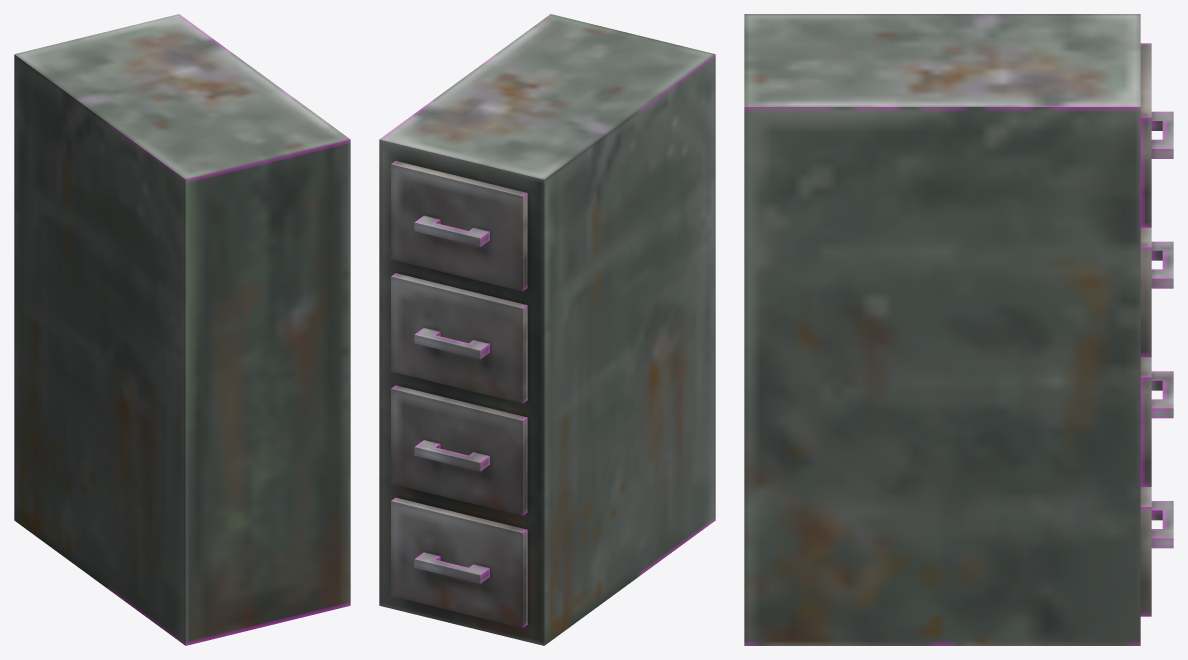
Rendered from filecabinet.001.fbx.
3 views of the same model, side by side, from view 1: azimuth 30°, elevation 25°; view 2: azimuth 150°, elevation 25°; view 3: azimuth 270°, elevation 25° (orthographic). The views are drawn at different scales.
Parts seen in each view (by area): view 1: filecabinet.001; view 2: filecabinet.001; view 3: filecabinet.001.
Part boxes in pixels (<box>): filecabinet.001: <box>14,14,350,645</box>; filecabinet.001: <box>379,14,715,645</box>; filecabinet.001: <box>744,14,1173,645</box>.
Bounding box in the file's own units: 100 × 270 × 195.
